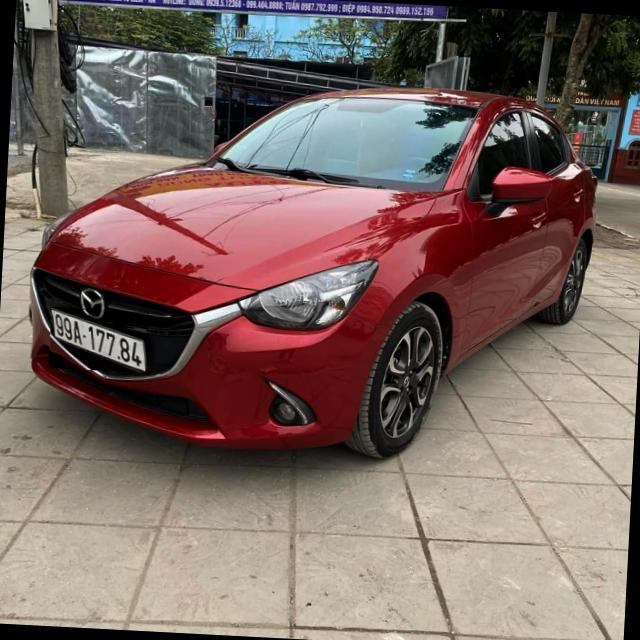car: (15, 72, 607, 460)
plate: (50, 306, 148, 375)
